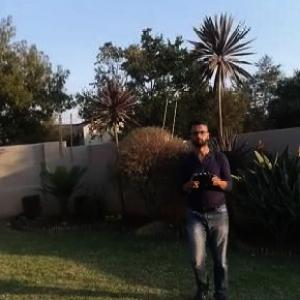follow: (176, 117, 236, 299)
